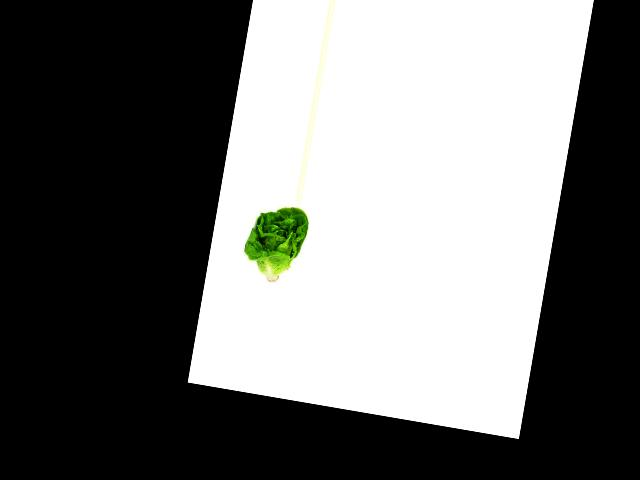lettuce: (235, 199, 312, 289)
